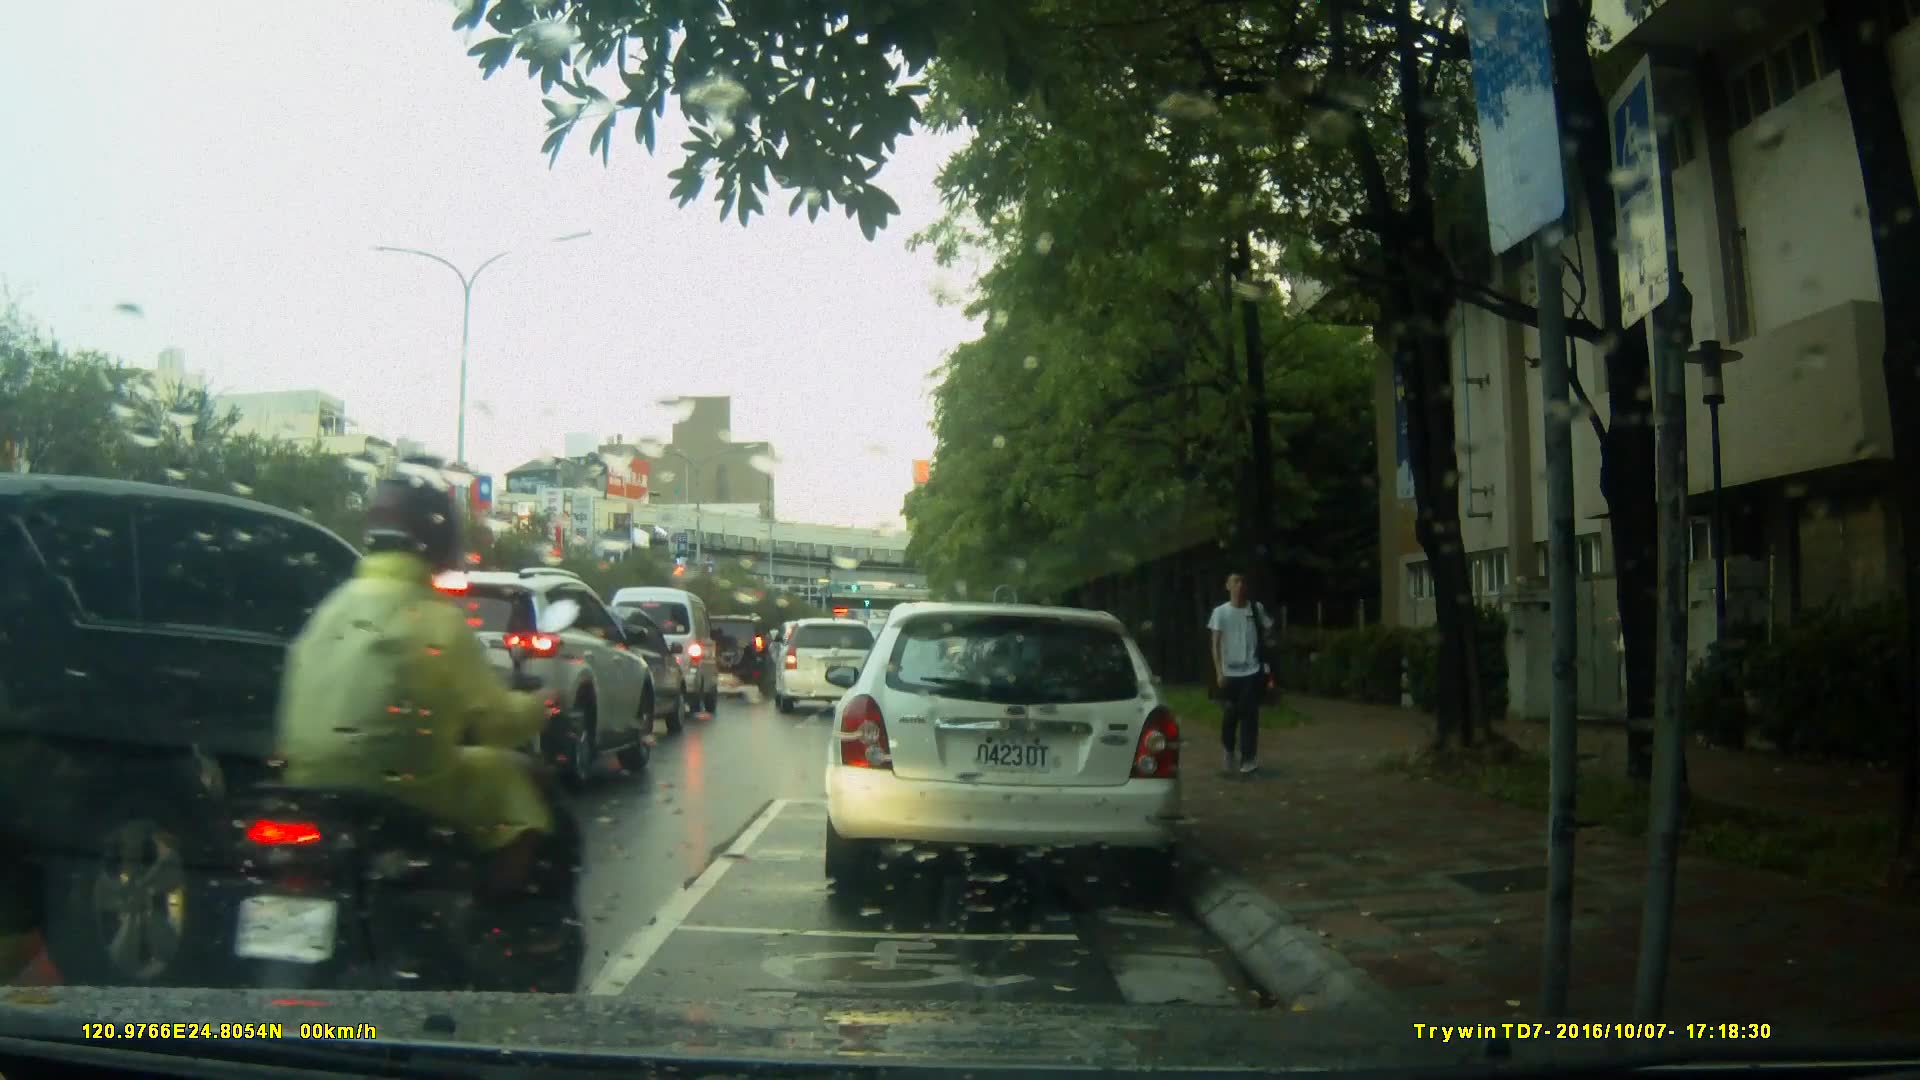pedestrian: (1200, 565, 1283, 791)
rider: (225, 476, 578, 1037)
vehicle: (1, 471, 536, 987), (820, 602, 1188, 898), (346, 563, 660, 790), (537, 602, 695, 735), (600, 585, 724, 721), (772, 617, 887, 714), (682, 611, 775, 699)
